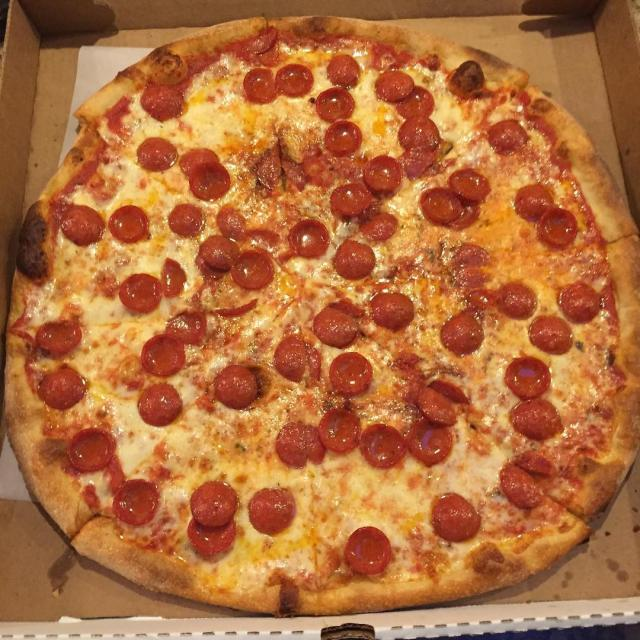pepperoni: (497, 451, 560, 513), (310, 296, 365, 352), (415, 373, 470, 426), (432, 492, 486, 545), (344, 525, 392, 577), (249, 484, 296, 537), (316, 405, 364, 456), (274, 336, 326, 383), (509, 397, 567, 439), (276, 422, 328, 468), (64, 428, 116, 474), (111, 476, 159, 524), (190, 479, 237, 528), (61, 202, 108, 250), (358, 422, 407, 468), (134, 381, 184, 426), (404, 421, 455, 465), (441, 306, 484, 358), (138, 334, 190, 377), (40, 367, 89, 411), (368, 292, 417, 335), (557, 281, 603, 326), (332, 238, 379, 282), (505, 356, 551, 400), (214, 367, 260, 411), (330, 351, 375, 395), (187, 520, 239, 557), (139, 82, 188, 121), (163, 311, 213, 348), (527, 315, 572, 356), (257, 155, 305, 193), (538, 206, 580, 249), (118, 271, 162, 312), (32, 319, 83, 354), (108, 202, 150, 244), (188, 161, 231, 202), (232, 250, 276, 290), (495, 281, 541, 319), (289, 219, 332, 259), (199, 286, 260, 314), (364, 154, 406, 194), (514, 182, 555, 222), (400, 143, 442, 182), (165, 200, 208, 238), (456, 244, 494, 286), (314, 86, 358, 122), (134, 137, 180, 171), (487, 119, 530, 155), (449, 168, 494, 202), (275, 62, 315, 100), (327, 184, 374, 216), (417, 187, 458, 222), (398, 115, 439, 150), (372, 71, 416, 103), (326, 120, 364, 157), (243, 66, 279, 105), (324, 52, 363, 87), (202, 236, 240, 270), (218, 200, 248, 242), (399, 85, 435, 118), (179, 149, 223, 176), (161, 259, 189, 297), (465, 285, 509, 308), (362, 213, 398, 241), (450, 203, 482, 229), (194, 254, 222, 282), (238, 230, 282, 246)
pizza: (0, 10, 640, 618)
